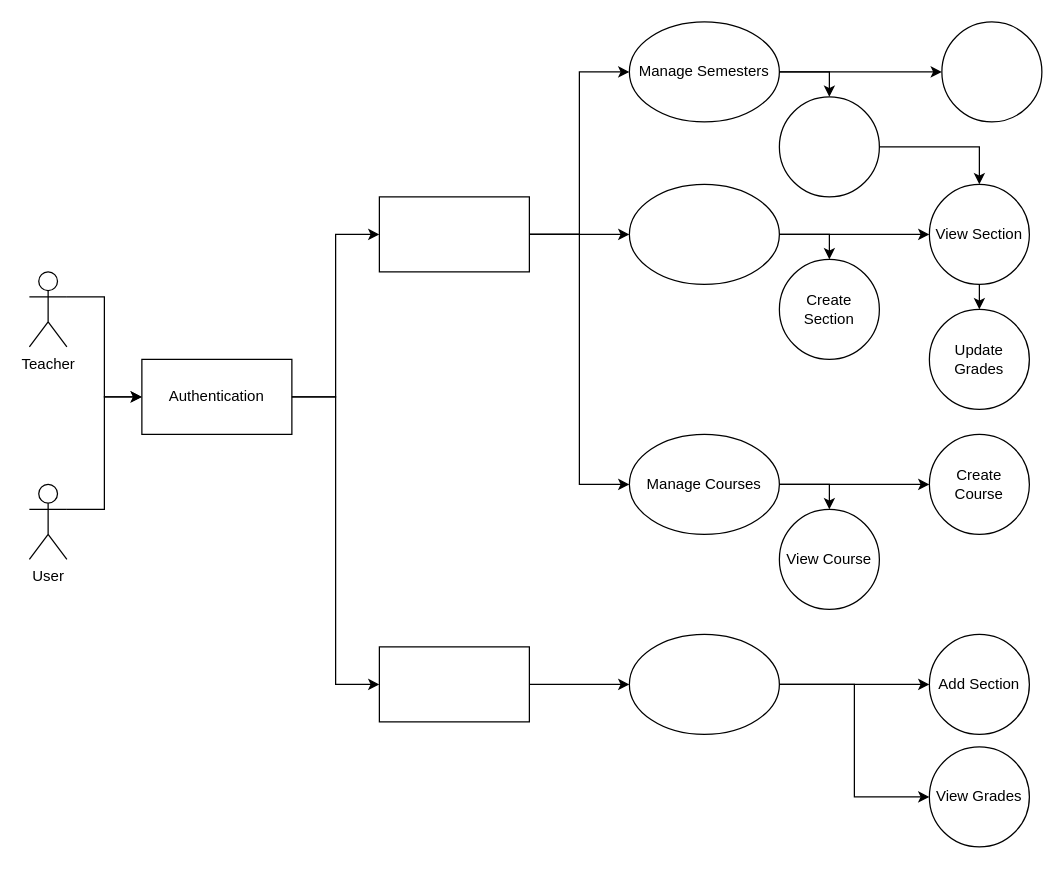
Some shapes in this 1064 by 869 pixel diagram are drawn without their labels. Each missing label, with the centre of its shape:
"Create Semester" belongs at (991,71).
"Manage Section" belongs at (703,233).
"Manage Sections" belongs at (703,683).
"Student Dashboard" belongs at (453,684).
"Teacher Dashboard" belongs at (453,234).
"View Semester" belongs at (828,146).
